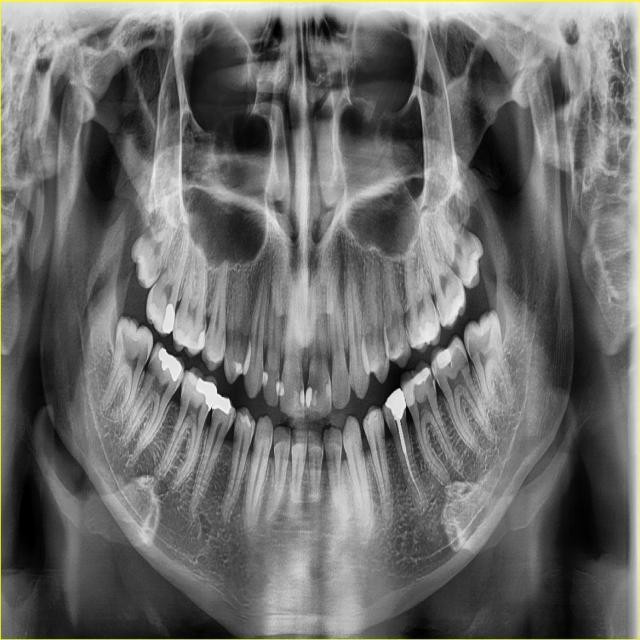71: (392, 405, 409, 456)
74: (402, 450, 422, 502)
NucleOSS Implant: (151, 345, 189, 383), (193, 373, 224, 412), (382, 387, 415, 420), (210, 392, 235, 416), (162, 302, 177, 335), (433, 348, 454, 369), (196, 329, 206, 349)
Sterngold Implant: (424, 371, 436, 391), (432, 367, 443, 388)
Straumann Implant: (393, 358, 433, 407), (413, 320, 438, 349), (304, 387, 313, 409), (326, 375, 332, 401), (234, 359, 243, 375), (261, 371, 269, 388), (300, 389, 305, 409), (275, 381, 280, 396), (280, 381, 285, 396)
